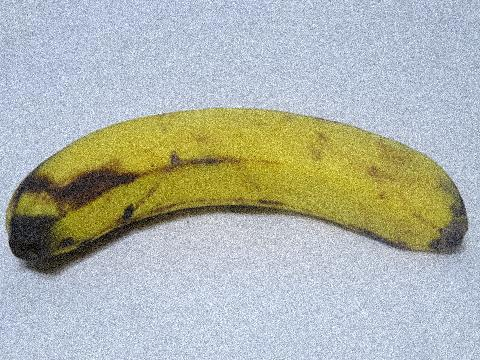ripe: (4, 89, 479, 295)
